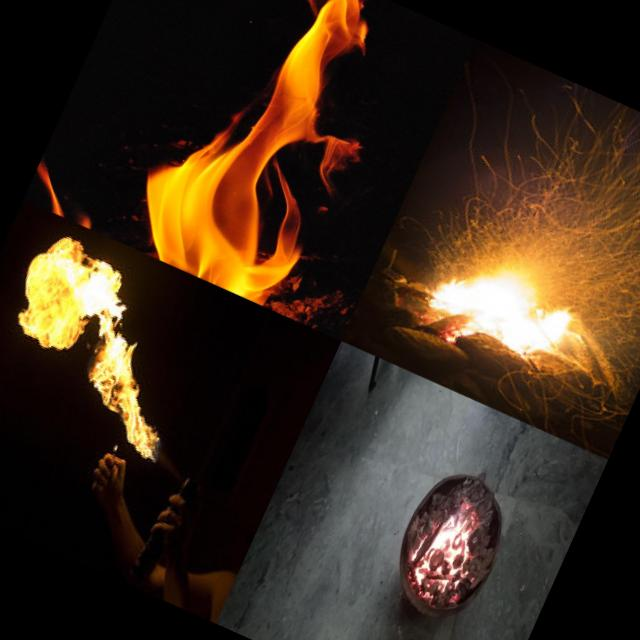fire: (30, 0, 470, 339), (0, 231, 222, 460), (408, 236, 598, 384), (395, 482, 506, 618)
